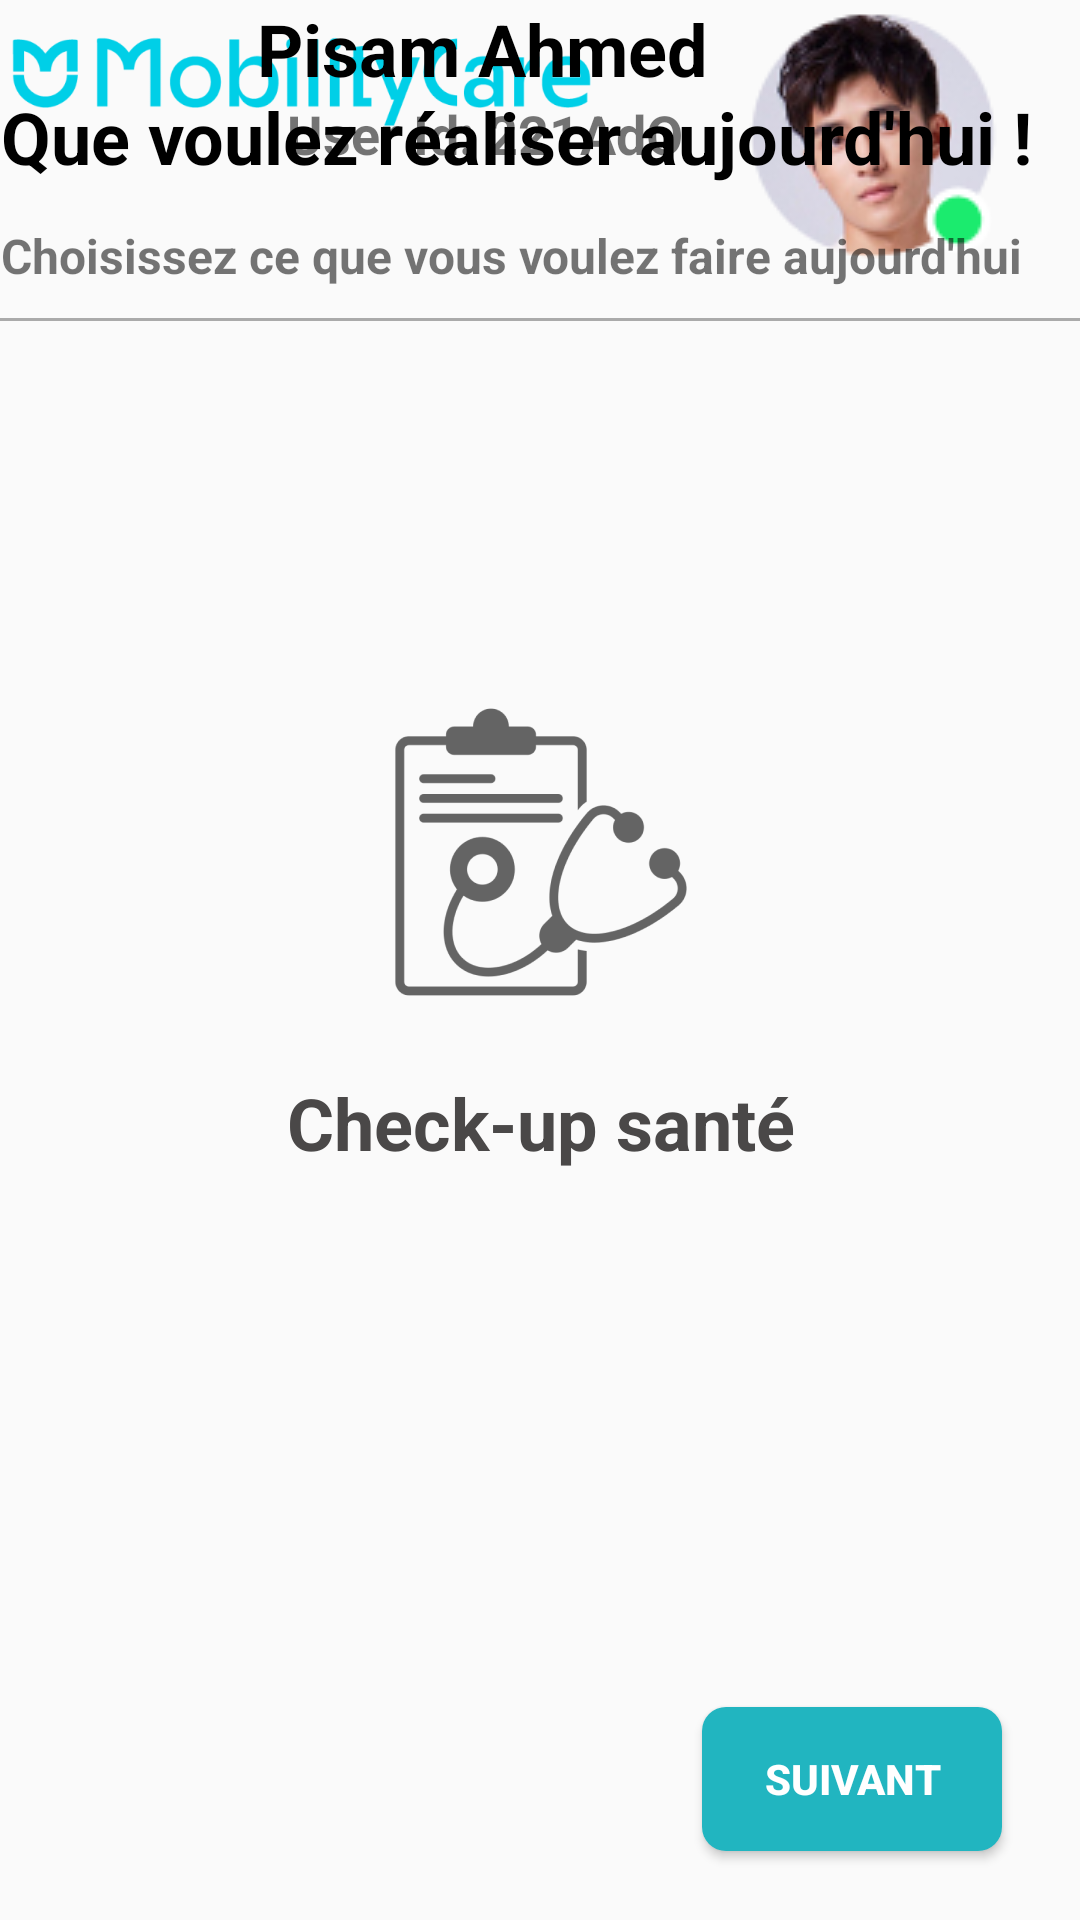

Locate icon controls on the screen. Image size 1080x1920, boxes as (x1, y1, x2, y2).
profile: (738, 14, 1007, 270)
